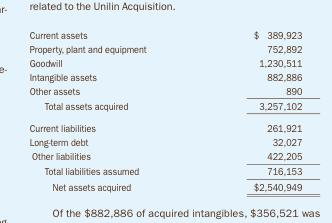table: (28, 28, 301, 192)
table column: (28, 28, 199, 192), (199, 28, 301, 192)
table row: (28, 97, 301, 116), (28, 116, 301, 135), (28, 148, 301, 163), (28, 163, 301, 178), (28, 41, 301, 55), (28, 55, 301, 69), (28, 69, 301, 83), (28, 83, 301, 97), (28, 178, 301, 192), (28, 28, 301, 41), (28, 135, 301, 148)
